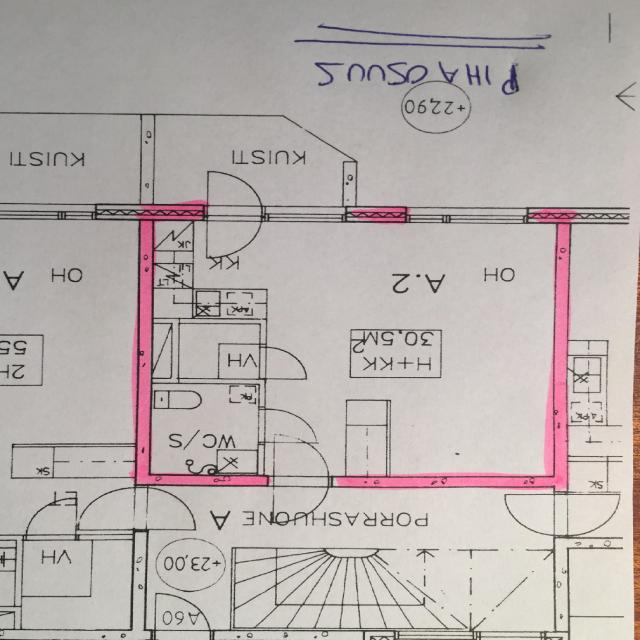door: (207, 164, 261, 220), (207, 205, 261, 260), (273, 474, 328, 528), (274, 434, 328, 486), (258, 410, 308, 442), (258, 348, 306, 378)
